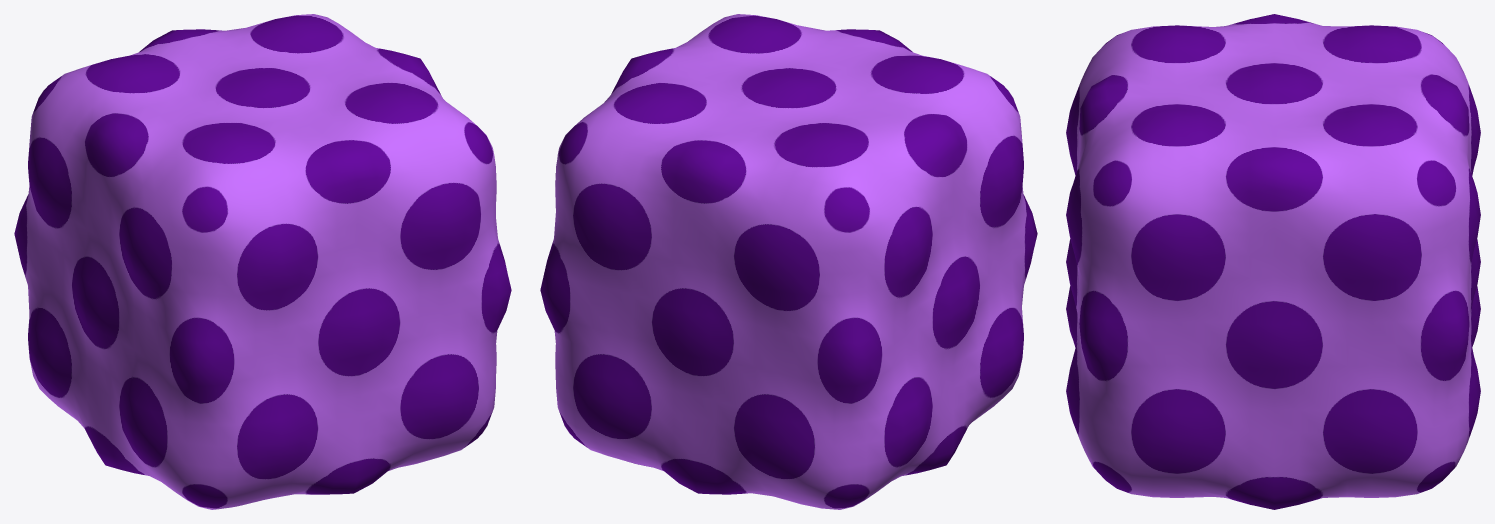
File: ledge.obj
3 renders of one model, left to right at view 1: azimuth 30°, elevation 25°; view 2: azimuth 150°, elevation 25°; view 3: azimuth 270°, elevation 25°, orthographic. The views are drawn at different scales.
Parts seen in each view (by area): view 1: Ledge; view 2: Ledge; view 3: Ledge.
Part boxes in pixels (x1,y1,x2,y2): Ledge: (14,14,511,509); Ledge: (540,14,1037,509); Ledge: (1066,14,1480,509).
Size of the model in its own units: 68.56 by 67.18 by 68.31.
Materials: 1 (1 with a texture image).
